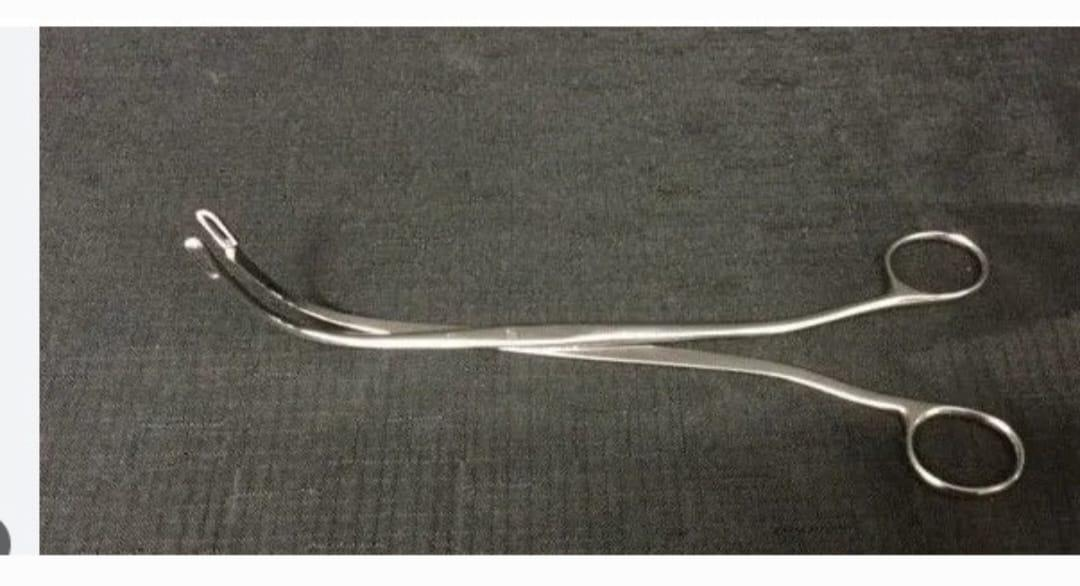Randall: (180, 204, 1034, 498)
